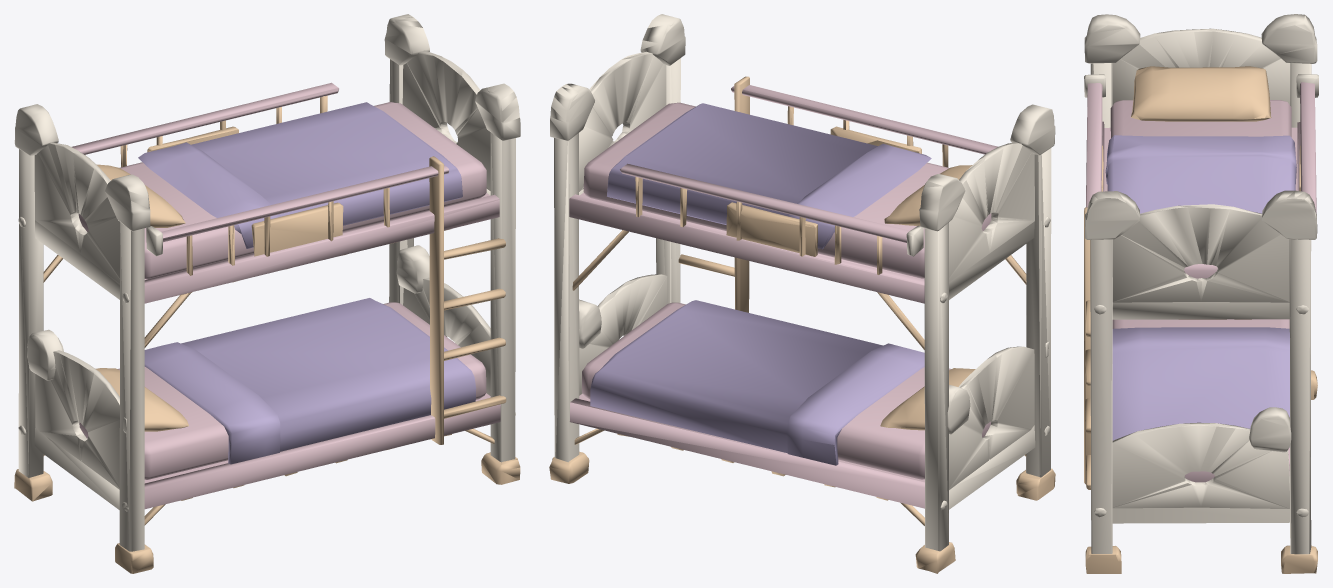
Rendered from bedroom_bunk.glb.
The picture shows the model from 3 angles, left to right: view 1: azimuth 30°, elevation 25°; view 2: azimuth 150°, elevation 25°; view 3: azimuth 270°, elevation 25°; orthographic projection. The views are drawn at different scales.
Bounding box in the file's own units: 4 × 3.8 × 2.15.
